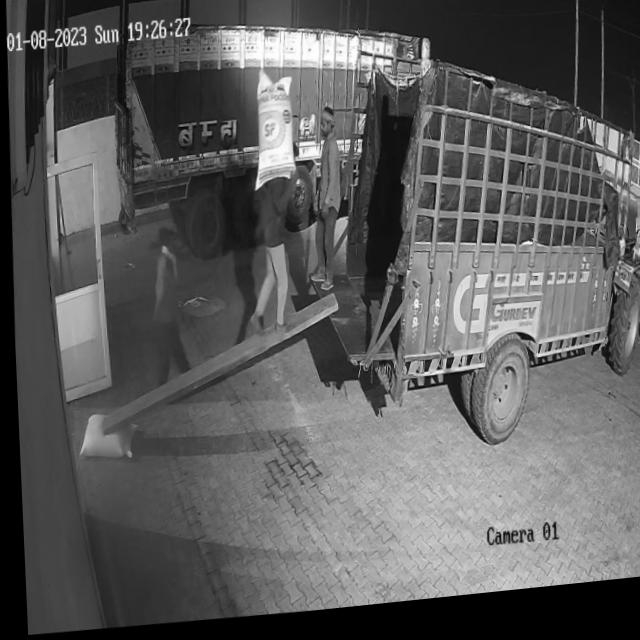sack: (249, 74, 295, 196), (74, 410, 133, 463)
